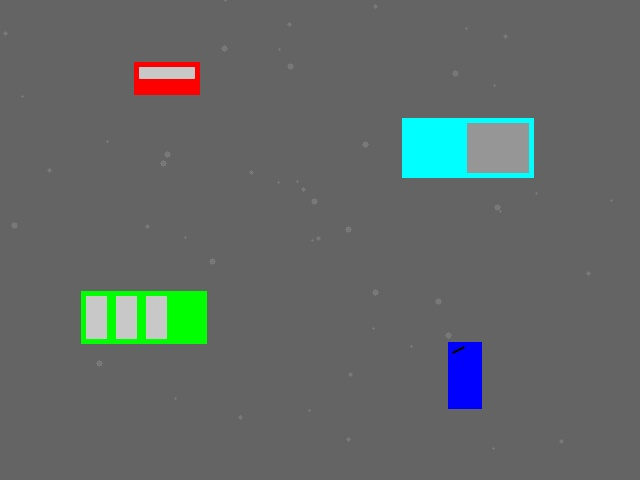bus: (81, 291, 206, 343)
car: (134, 62, 199, 94)
motorcycle: (448, 342, 481, 408)
truck: (402, 118, 533, 177)
